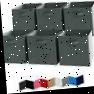cube: (57, 31, 93, 69), (25, 31, 61, 67), (34, 1, 67, 33), (63, 2, 94, 34), (2, 31, 29, 63)
